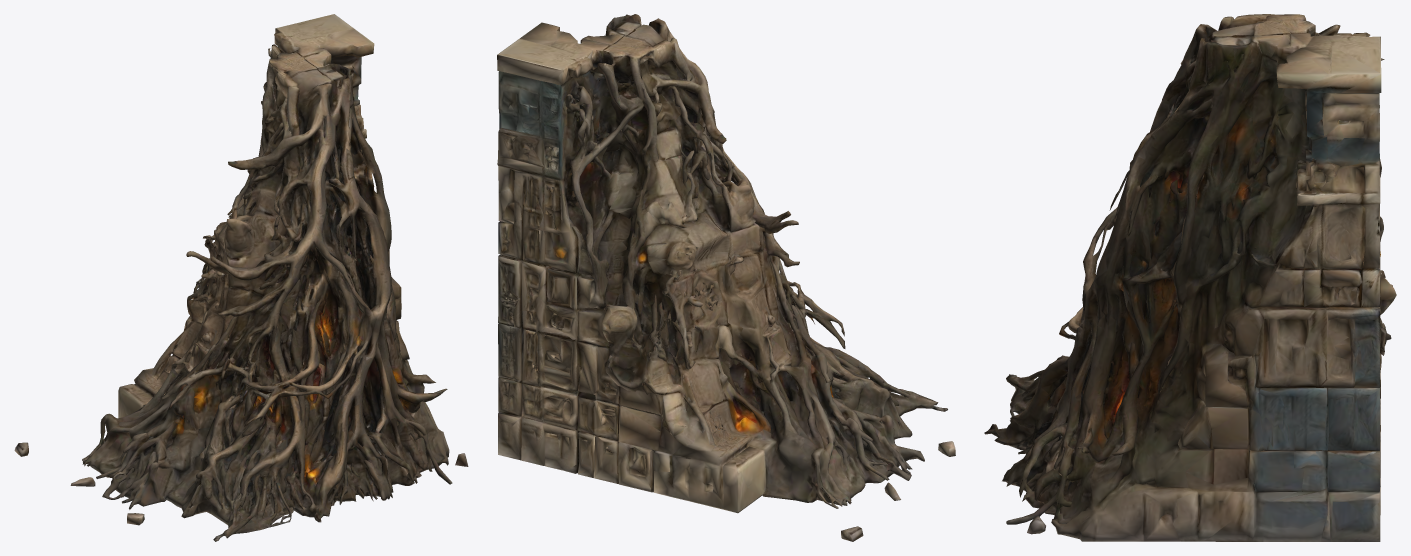
Rendered from Highly_detailed_ancie.glb.
The picture shows the model from 3 angles, left to right: view 1: azimuth 30°, elevation 25°; view 2: azimuth 150°, elevation 25°; view 3: azimuth 270°, elevation 25°; orthographic projection. The views are drawn at different scales.
Visible parts, largest first — view 1: Highly_detailed_ancie; view 2: Highly_detailed_ancie; view 3: Highly_detailed_ancie.
Boxes of the visible parts, box(x1,y1,x2,y2) form: Highly_detailed_ancie: box(14, 14, 468, 541); Highly_detailed_ancie: box(497, 14, 955, 541); Highly_detailed_ancie: box(984, 14, 1396, 541).
Bounding box in the file's own units: 1.87 × 2 × 1.59.
Materials: 1 (1 with a texture image).
